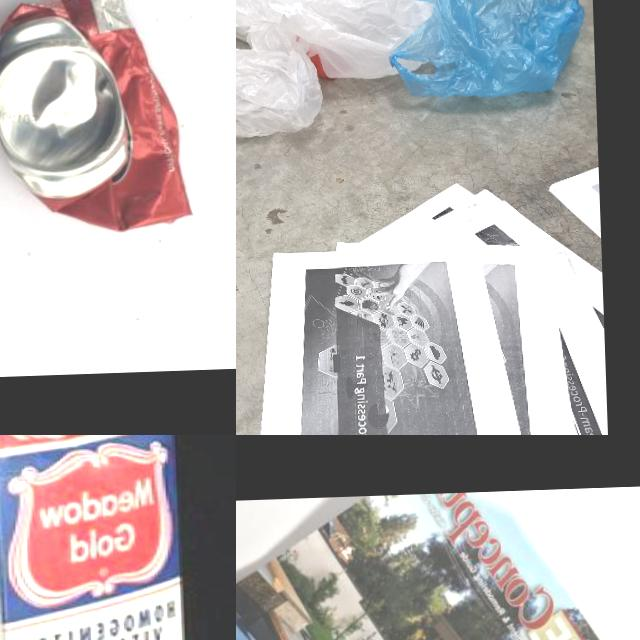caixinha: (0, 435, 191, 640)
lata: (0, 0, 191, 241)
papel: (239, 177, 611, 435), (236, 486, 640, 640)
sacola plástica: (382, 0, 583, 97), (248, 0, 433, 82), (236, 28, 321, 142)
